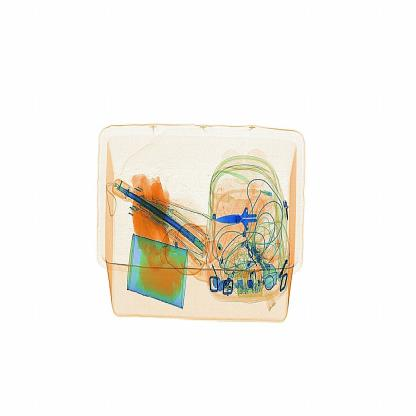gun: (213, 197, 276, 247)
